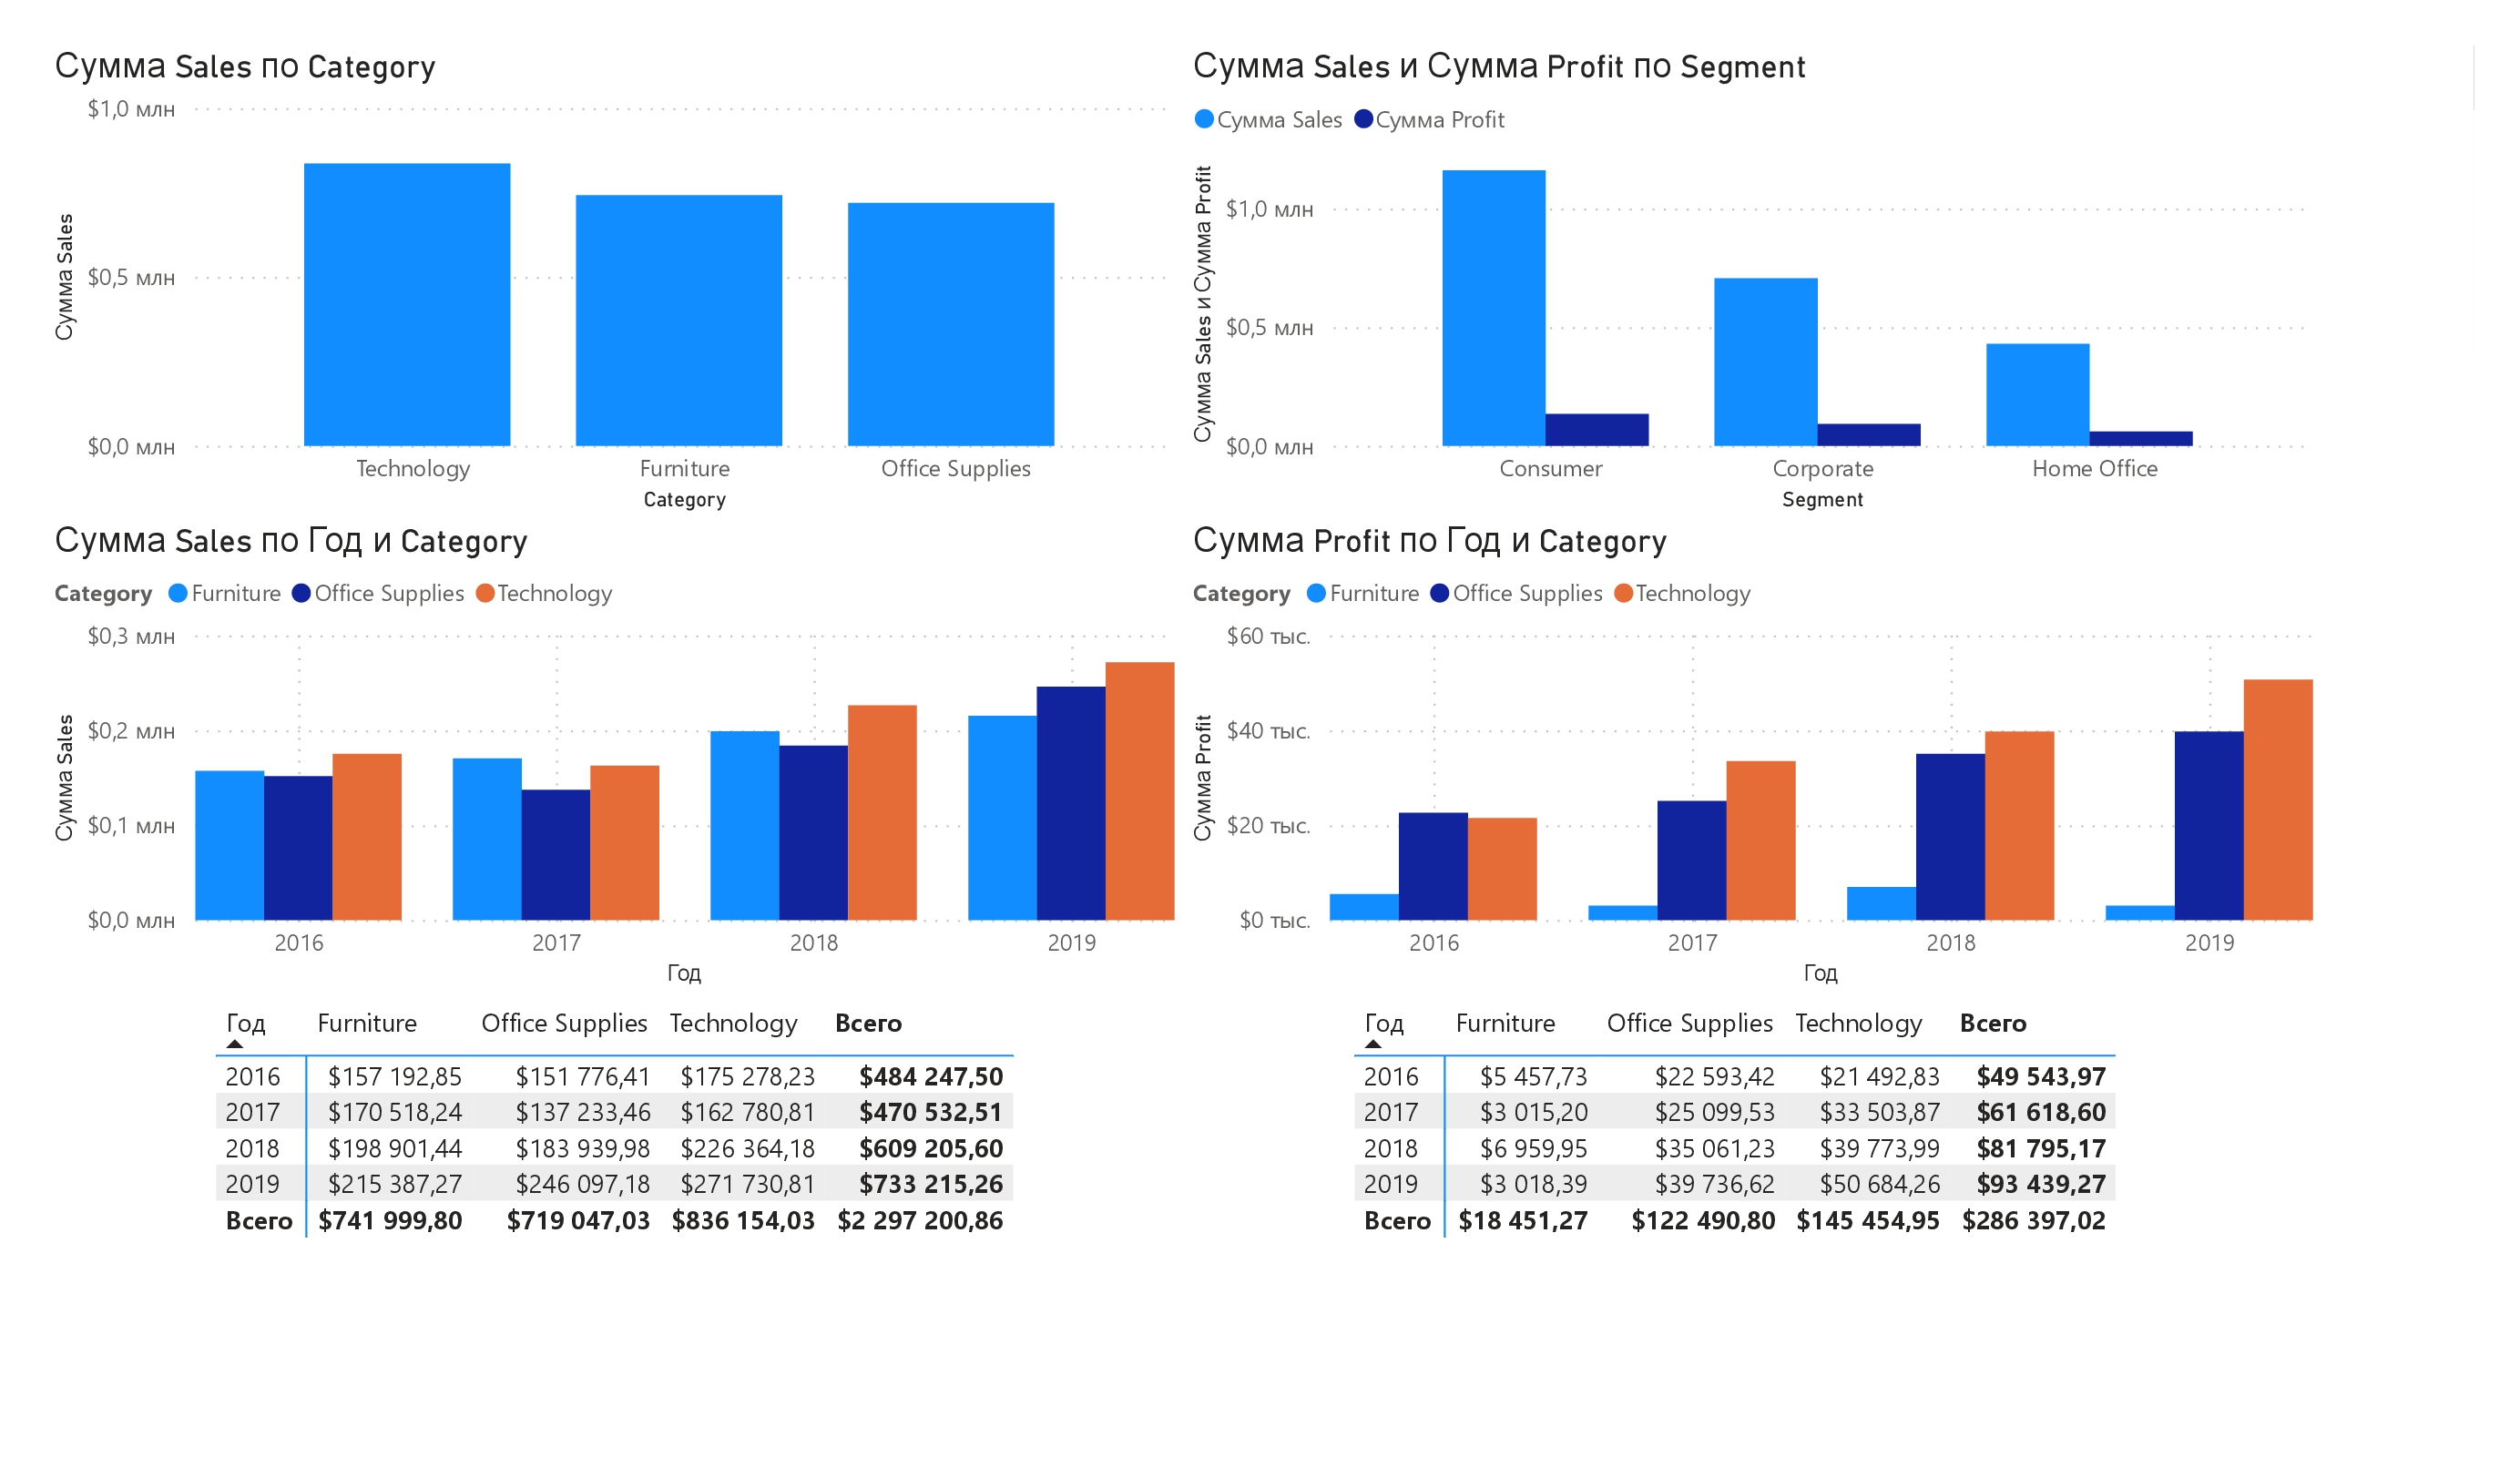

What the dashboard file says about the page in this screenshot:
{"tool":"powerbi","page":{"name":"Product Dashboard (Продуктовые метрики)","canvas":[1280,720],"ordinal":1},"visuals":[{"type":"lineClusteredColumnComboChart","fields":{"Y":["Sum(Orders2.Sales)"],"Category":["Orders2.Category"]},"box":[0,0,600,250],"z":0},{"type":"lineClusteredColumnComboChart","fields":{"Category":["Orders2.Order Date.Изменение.Иерархия дат.Год"],"Y":["Sum(Orders2.Sales)"],"Series":["Orders2.Category"]},"box":[0,250,600,250],"z":1000},{"type":"pivotTable","fields":{"Rows":["Orders2.Order Date.Изменение.Иерархия дат.Год"],"Values":["Sum(Orders2.Sales)"],"Columns":["Orders2.Category"]},"box":[85,500,430,135],"z":1001},{"type":"lineClusteredColumnComboChart","fields":{"Y":["Sum(Orders2.Sales)","Sum(Orders2.Profit)"],"Category":["Orders2.Segment"]},"box":[600,0,600,250],"z":1002},{"type":"lineClusteredColumnComboChart","fields":{"Category":["Orders2.Order Date.Изменение.Иерархия дат.Год"],"Series":["Orders2.Category"],"Y":["Sum(Orders2.Profit)"]},"box":[600,250,600,250],"z":1003},{"type":"pivotTable","fields":{"Rows":["Orders2.Order Date.Изменение.Иерархия дат.Год"],"Values":["Sum(Orders2.Profit)"],"Columns":["Orders2.Category"]},"box":[685,500,430,135],"z":1004}]}

Visuals, with their boxes on the page's 1280x720 design canvas (x1, y1, x2, y2). These are canvas units, not pixel positions in the 2520x1457 screenshot, which may show the page scaled, cropped or inside an application window:
lineClusteredColumnComboChart - Sum(Orders2.Sales) x Orders2.Category: (0, 0, 600, 250)
lineClusteredColumnComboChart - Orders2.Order Date.Изменение.Иерархия дат.Год x Sum(Orders2.Sales): (0, 250, 600, 500)
pivotTable - Orders2.Order Date.Изменение.Иерархия дат.Год x Sum(Orders2.Sales): (85, 500, 515, 635)
lineClusteredColumnComboChart - Sum(Orders2.Sales) x Sum(Orders2.Profit): (600, 0, 1200, 250)
lineClusteredColumnComboChart - Orders2.Order Date.Изменение.Иерархия дат.Год x Orders2.Category: (600, 250, 1200, 500)
pivotTable - Orders2.Order Date.Изменение.Иерархия дат.Год x Sum(Orders2.Profit): (685, 500, 1115, 635)
